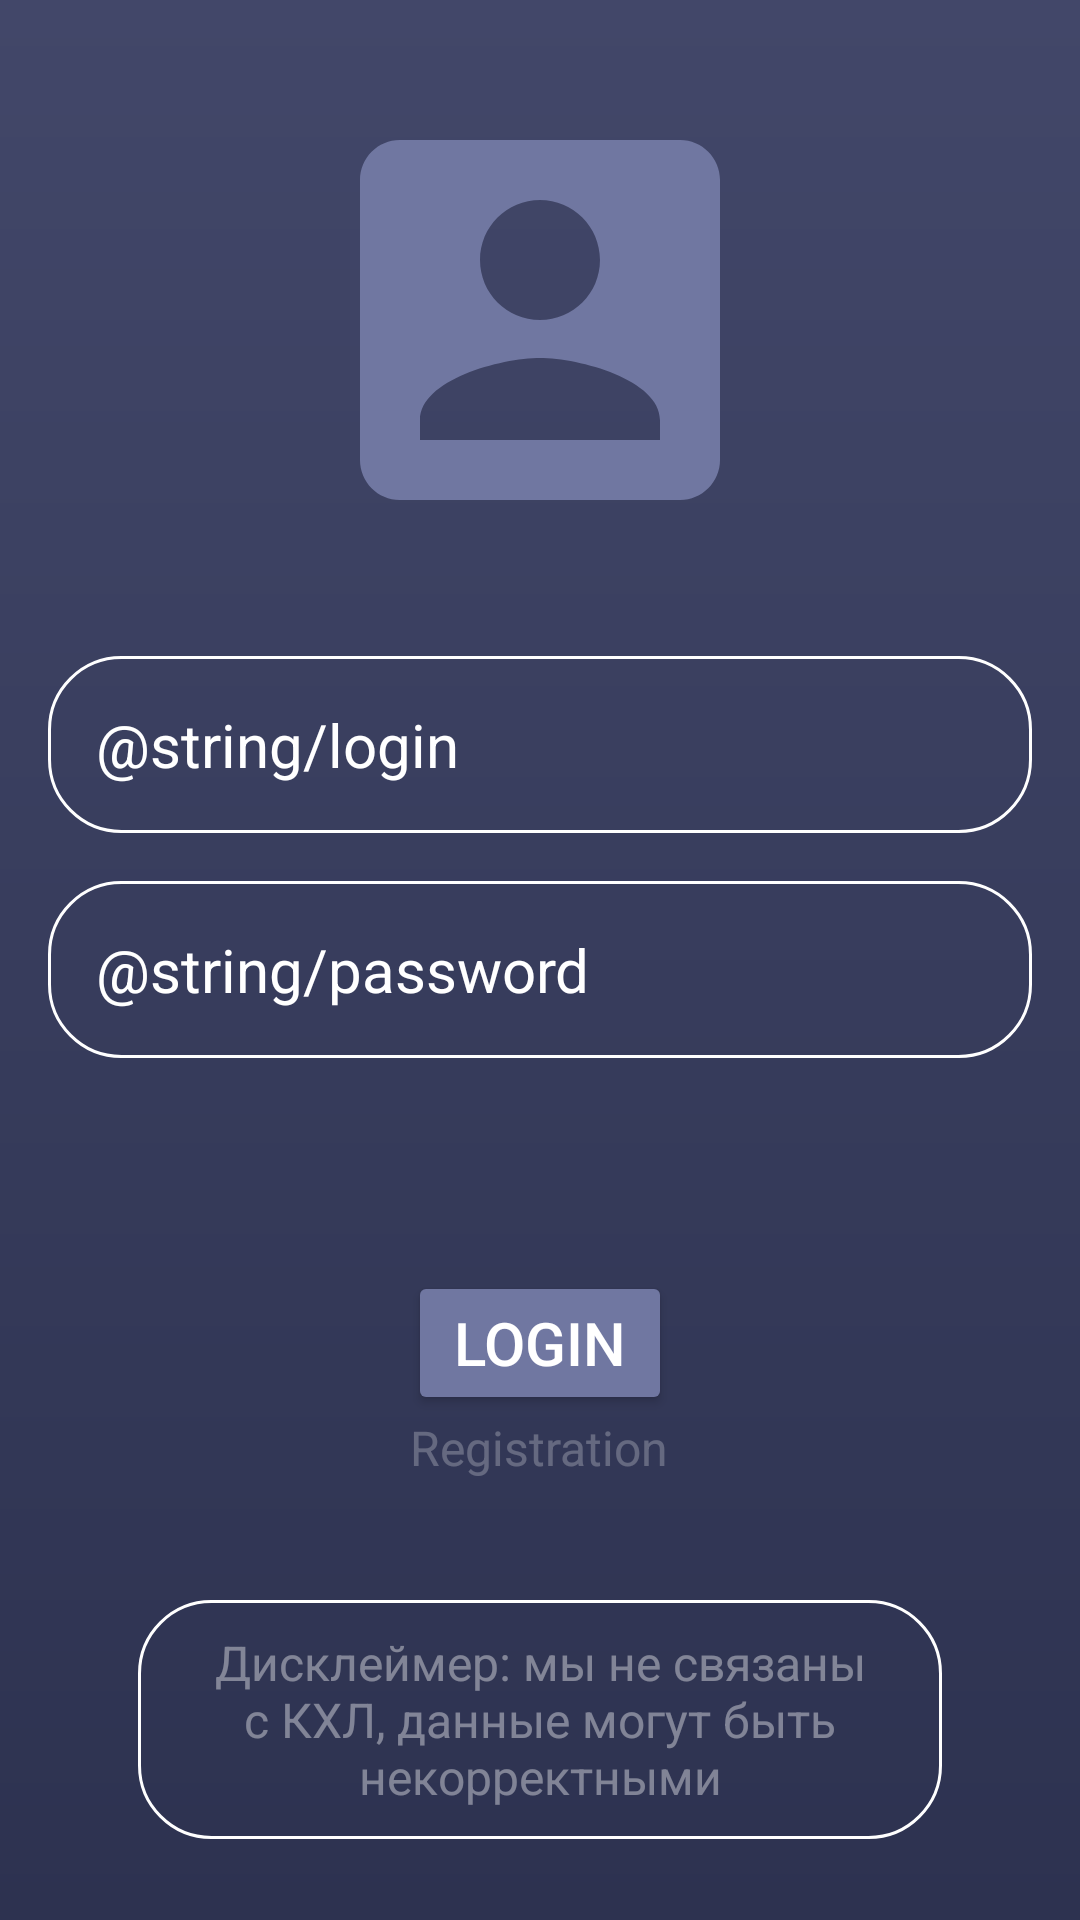

Named icons in this screenshot (1080 x 1920) and their centers, (x=x, y=y):
account box: (x=540, y=320)
